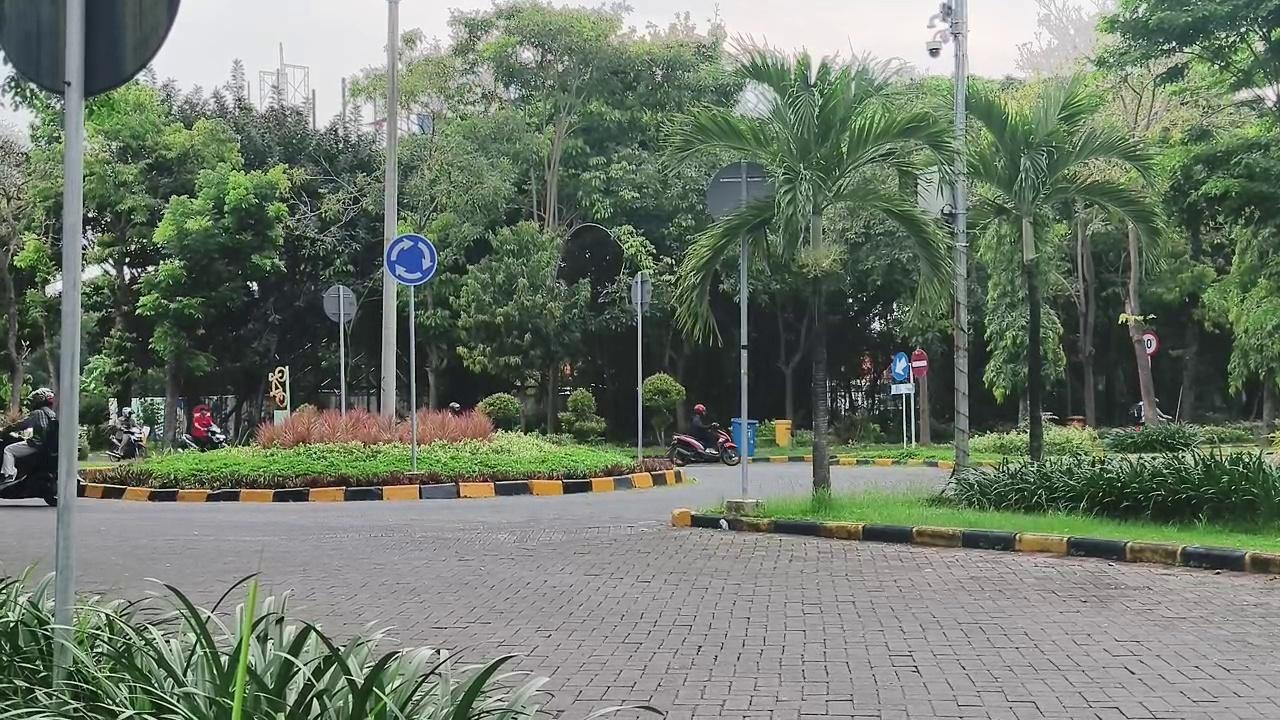Helmet: (0, 388, 55, 486), (690, 404, 717, 451)
Motor: (0, 449, 56, 505), (667, 425, 740, 466), (107, 426, 146, 460), (179, 424, 228, 451)
